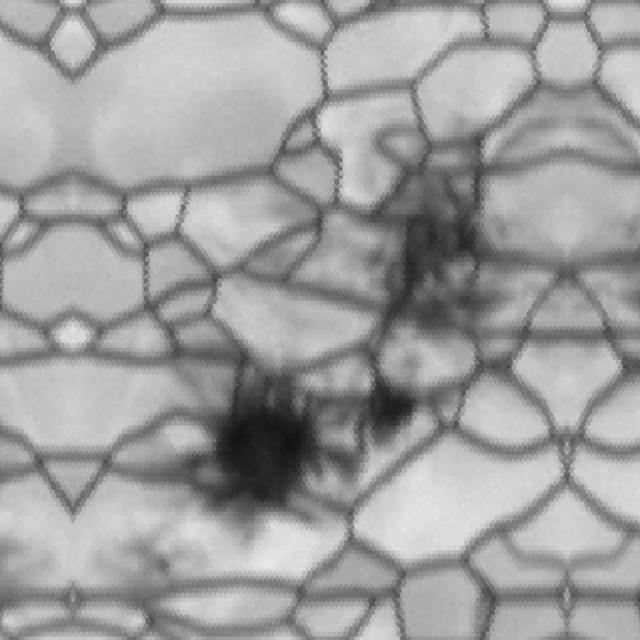good_void: (179, 338, 425, 545), (355, 99, 532, 350), (85, 523, 194, 607), (0, 525, 62, 607)
